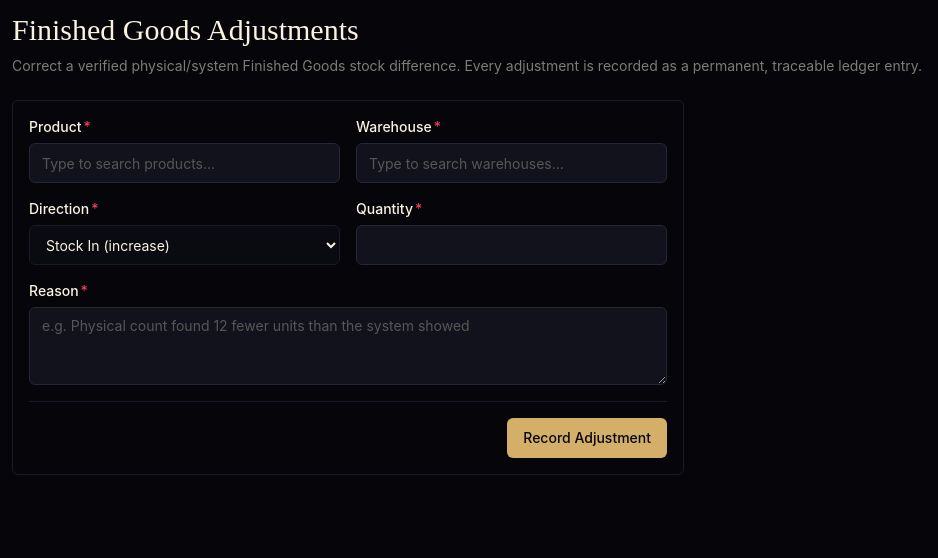
Scenario: FinishedGoodsAdjustmentsPage › rejects submission with no product, warehouse, quantity or reason selected
This screenshot has width=938, height=558.
Expected: the dropdown labelled "Product" is shown, [29,143,340,183]
Step 1. Click the button "Record Adjustment" → (587, 438), box [507,418,667,458]
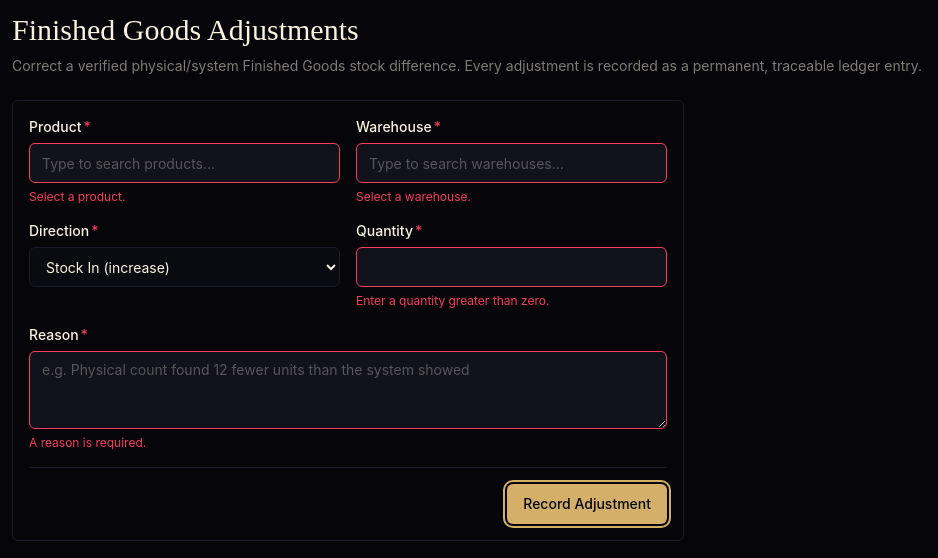
Now the text "Select a product." is shown, box [29,189,125,204]
Now the text "Select a warehouse." is shown, box [356,189,471,204]
Now the text "Enter a quantity greater than zero." is shown, box [356,293,549,308]
